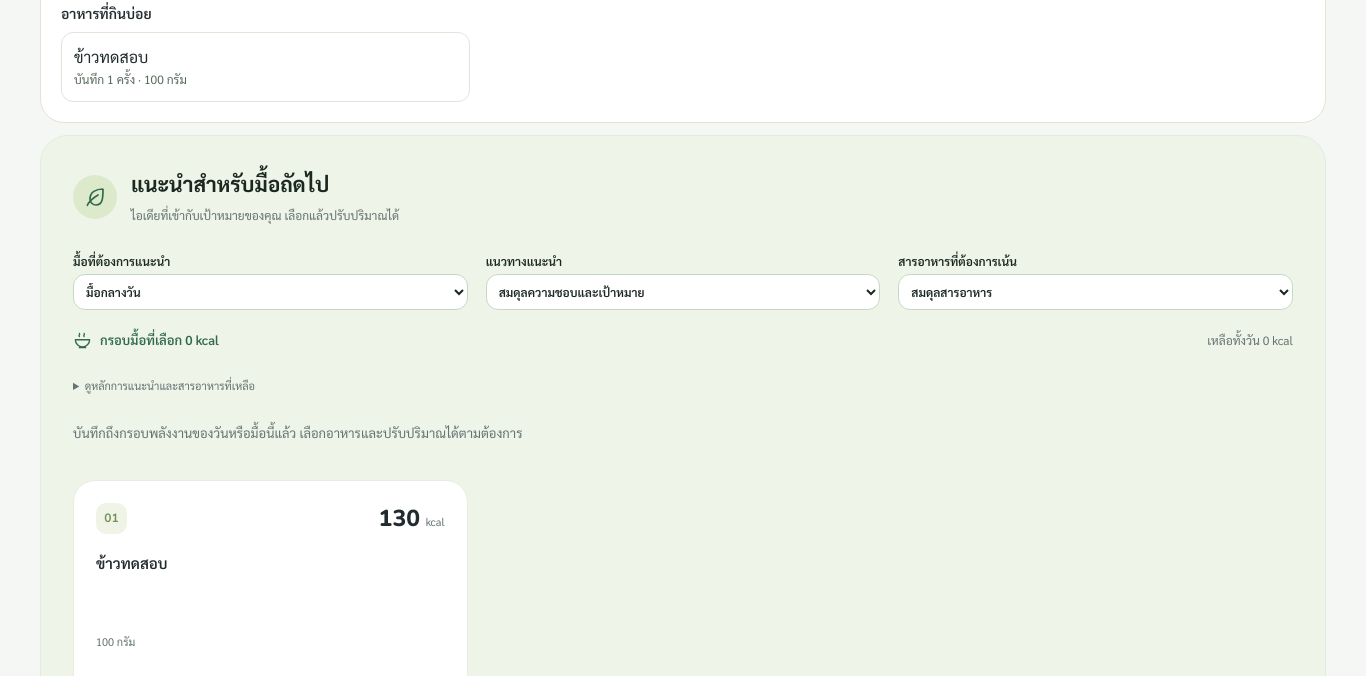
Test: recommendations in add-food flow › explains unavailable recommendations and exhausted targets without blocking manual food selection
(page scrolled)
Select "เน้นสารอาหารและพลังงาน" in the dropdown labelled "แนวทางแนะนำ": (683, 292) [486,274,880,310]
(page scrolled)
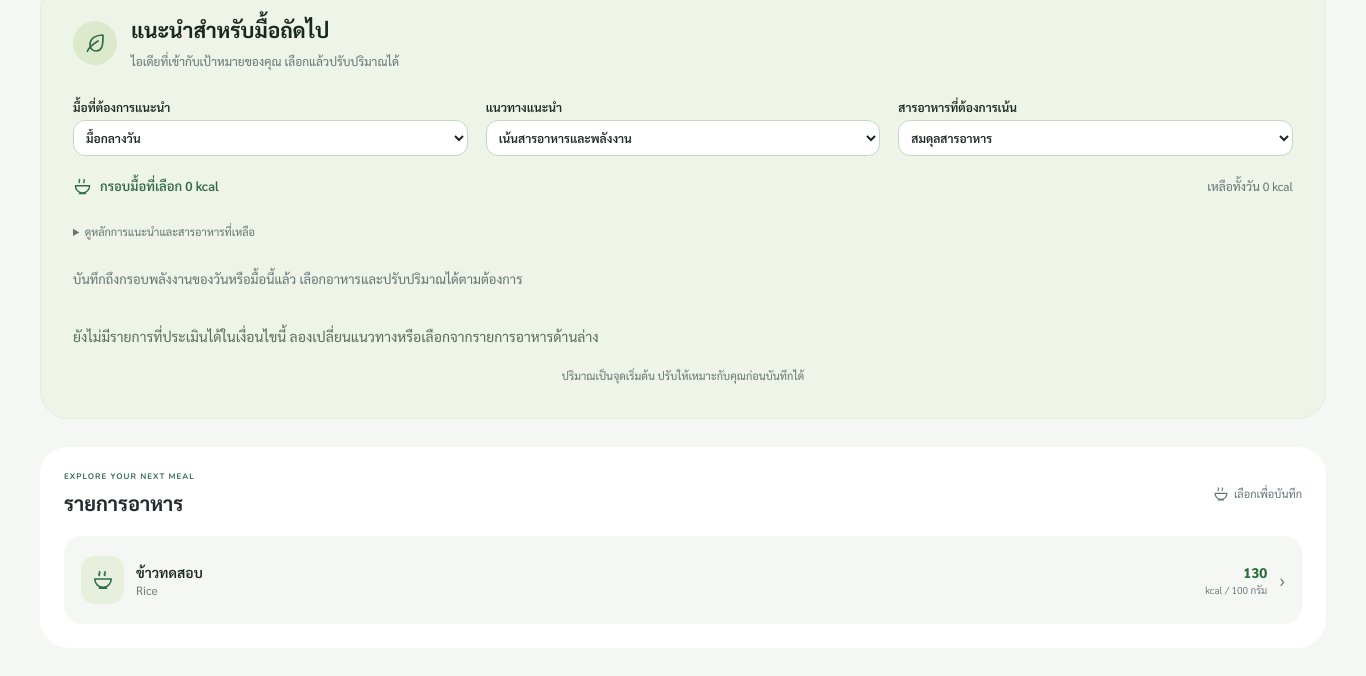
Expected: the text "บันทึกถึงกรอบพลังงาน" is shown, [73,270,522,286]
Result: the text "ยังไม่มีรายการที่ประเมินได้" is shown at [73,327,599,345]
Click the button "ข้าวทดสอบ Rice 130 kcal / 100 กรัม ›": (102, 580) [64,536,1302,624]
(page scrolled)
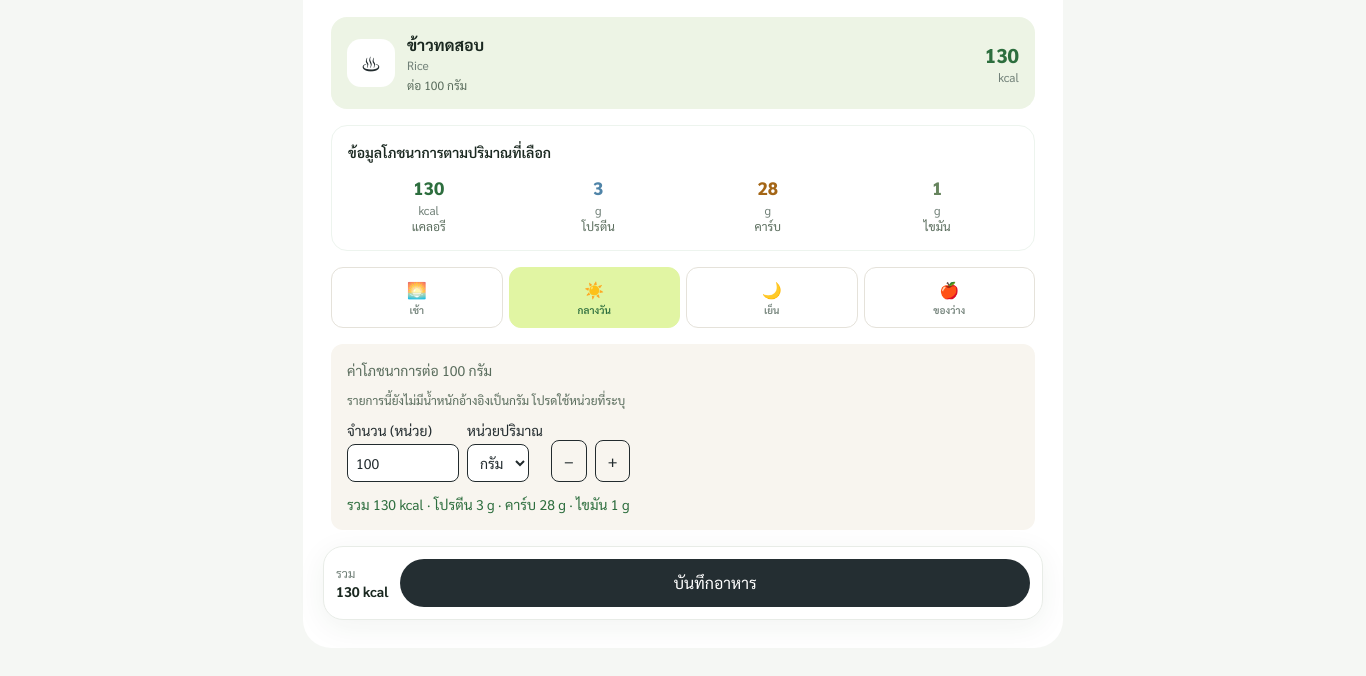
Result: the number field labelled "จำนวน (หน่วย)" is shown at [347,444,459,482]
